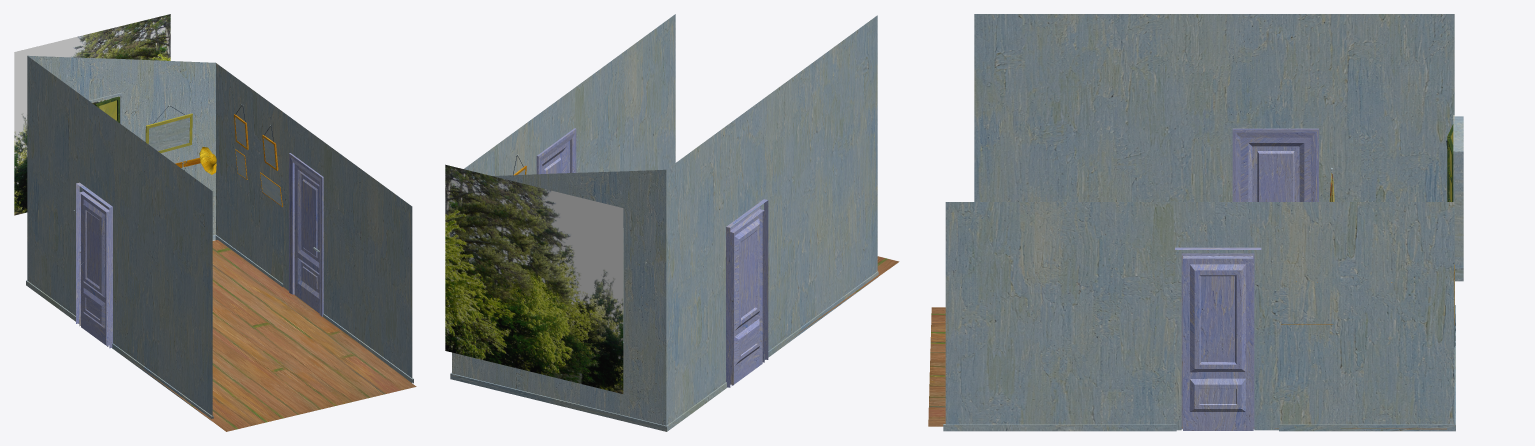
The model's file is bedroom in arles.fbx.
3 views of the same model, side by side, from view 1: azimuth 30°, elevation 25°; view 2: azimuth 150°, elevation 25°; view 3: azimuth 270°, elevation 25° (orthographic). The views are drawn at different scales.
Parts seen in each view (by area): view 1: Enter_a_title:walls, Enter_a_title:FLOOR, Enter_a_title:Doors, Enter_a_title:back, polySurface22, polySurface24, polySurface25, polySurface4, polySurface26; view 2: Enter_a_title:walls, Enter_a_title:back, Enter_a_title:Doors, polySurface24, polySurface25; view 3: Enter_a_title:walls, Enter_a_title:Doors, Enter_a_title:FLOOR, polySurface26, polySurface24.
Part boxes in pixels (left/top/right/bottom): Enter_a_title:walls: left=27, top=55, right=412, bottom=418; Enter_a_title:FLOOR: left=134, top=240, right=416, bottom=431; Enter_a_title:Doors: left=76, top=153, right=323, bottom=348; Enter_a_title:back: left=14, top=14, right=170, bottom=215; polySurface22: left=148, top=117, right=189, bottom=150; polySurface24: left=26, top=234, right=282, bottom=323; polySurface25: left=112, top=343, right=213, bottom=420; polySurface4: left=145, top=113, right=192, bottom=153; polySurface26: left=323, top=313, right=413, bottom=383; Enter_a_title:walls: left=452, top=14, right=877, bottom=425; Enter_a_title:back: left=445, top=164, right=623, bottom=393; Enter_a_title:Doors: left=536, top=128, right=768, bottom=387; polySurface24: left=450, top=372, right=727, bottom=431; polySurface25: left=764, top=271, right=878, bottom=359; Enter_a_title:walls: left=945, top=14, right=1463, bottom=430; Enter_a_title:Doors: left=1175, top=128, right=1318, bottom=430; Enter_a_title:FLOOR: left=928, top=307, right=1446, bottom=429; polySurface26: left=943, top=424, right=1176, bottom=431; polySurface24: left=1279, top=305, right=1455, bottom=431.
Bounding box in the file's own units: 3.43 × 3.86 × 6.94.
